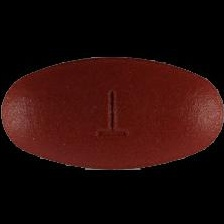52125-613: (0, 0, 224, 224)
